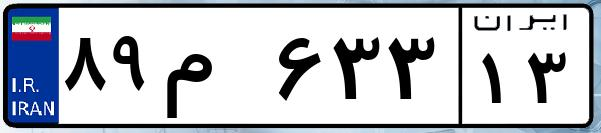1: (475, 38, 525, 113)
3: (385, 28, 445, 110), (330, 28, 385, 110), (525, 38, 570, 115)
6: (270, 28, 330, 110)
8: (57, 26, 110, 100)
9: (110, 28, 158, 98)
م: (158, 20, 270, 120)
